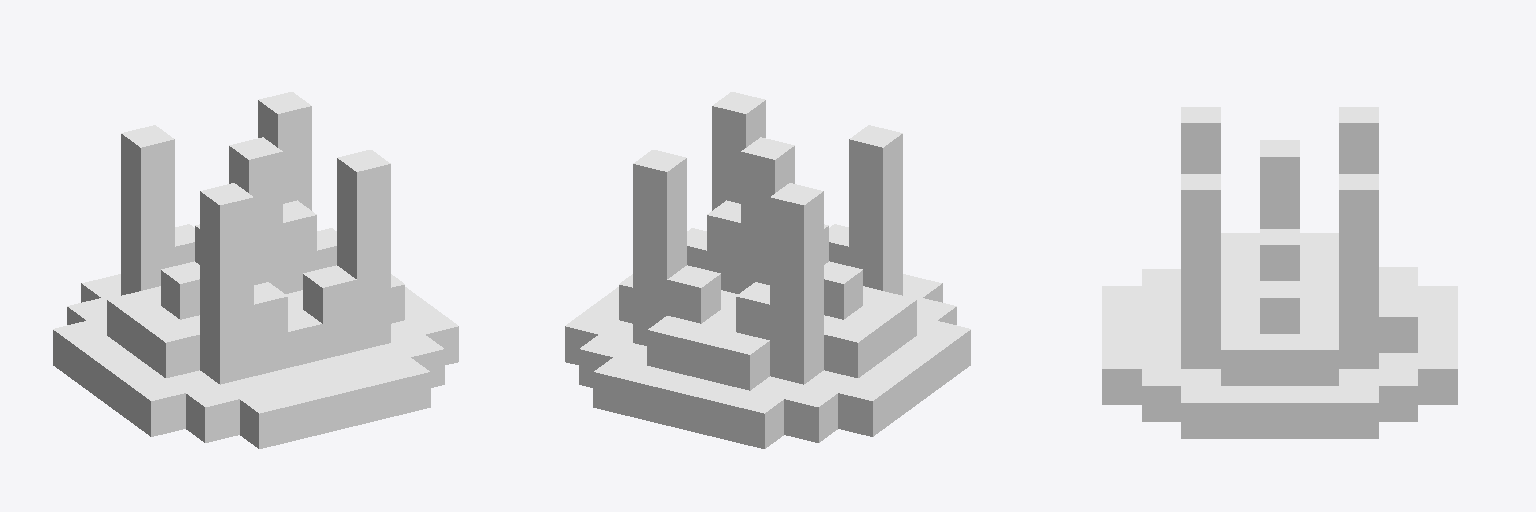
The model's file is shipi.obj.
3 views of the same model, side by side, from view 1: azimuth 30°, elevation 25°; view 2: azimuth 150°, elevation 25°; view 3: azimuth 270°, elevation 25° (orthographic).
Visible parts, largest first — view 1: object 1; view 2: object 1; view 3: object 1.
Boxes of the visible parts, box(x1,y1,x2,y2) form: object 1: box(53, 92, 458, 448); object 1: box(565, 92, 970, 448); object 1: box(1102, 107, 1457, 438).
Bounding box in the file's own units: 0.9 × 0.6 × 0.9.